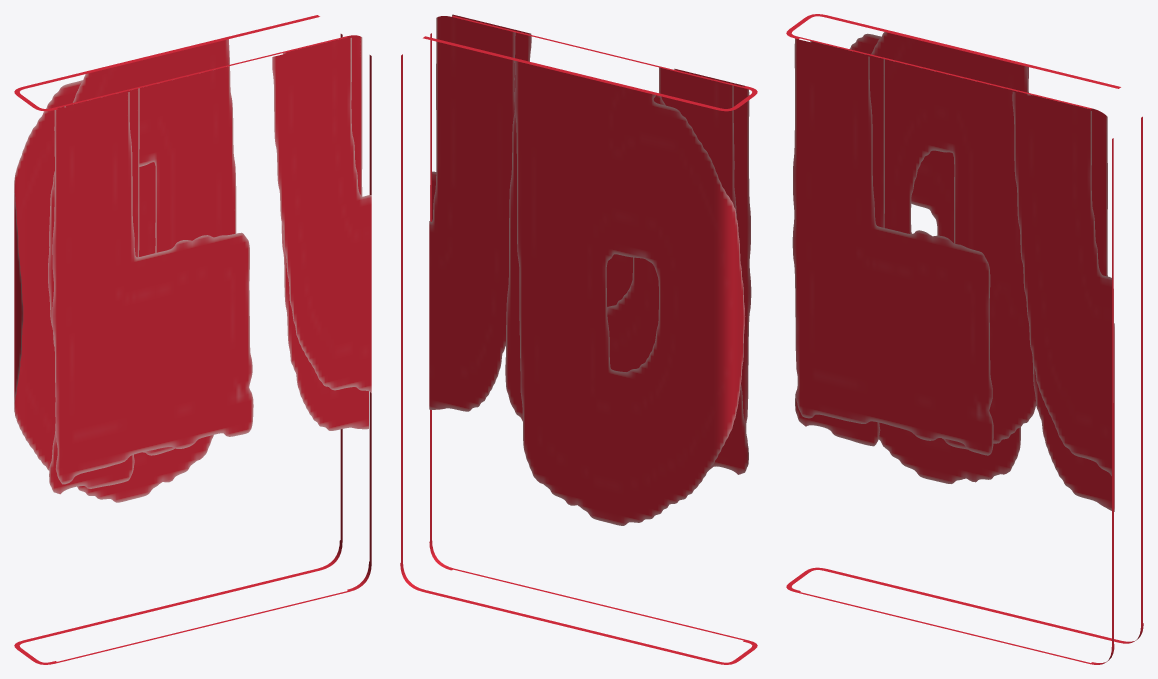
Rendered from blog.FBX.
3 renders of one model, left to right at view 1: azimuth 30°, elevation 25°; view 2: azimuth 150°, elevation 25°; view 3: azimuth 330°, elevation 25°, orthographic.
Visible parts, largest first — view 1: blog; view 2: blog; view 3: blog.
Boxes of the visible parts, x1,y1,x2,y2 form: blog: (14,15,371,664); blog: (400,14,757,664); blog: (786,14,1143,664).
Bounding box in the file's own units: 15 × 24 × 2.5.
